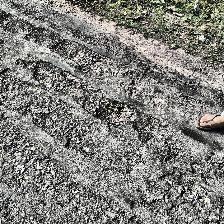pothole: (90, 99, 134, 127)
